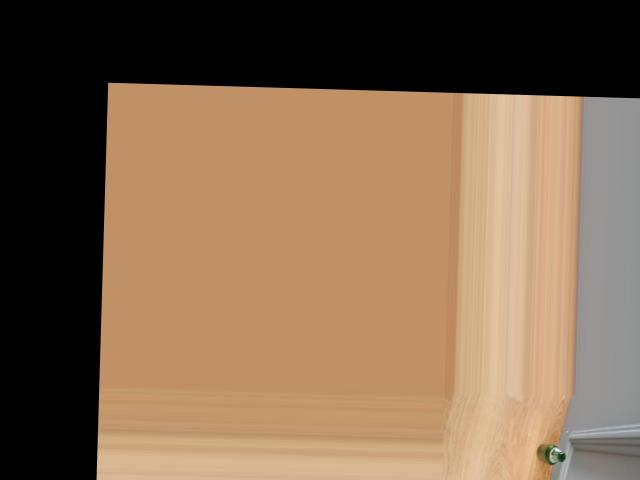beer: (536, 443, 565, 464)
